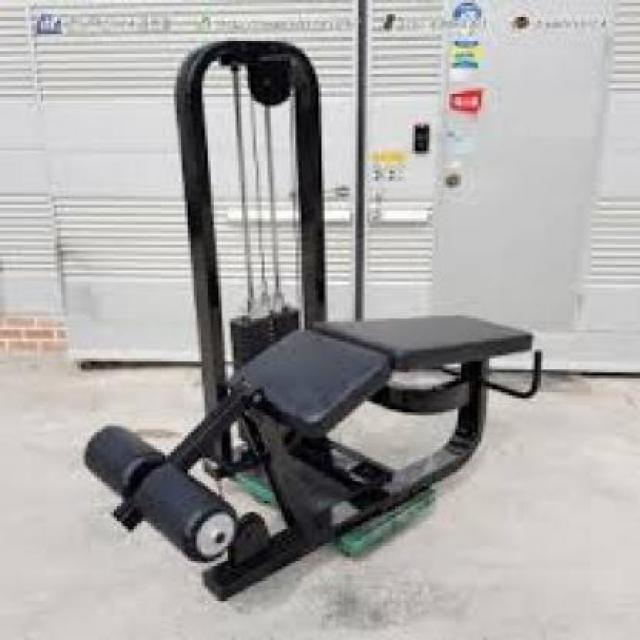reg curl machine: (83, 37, 546, 600)
